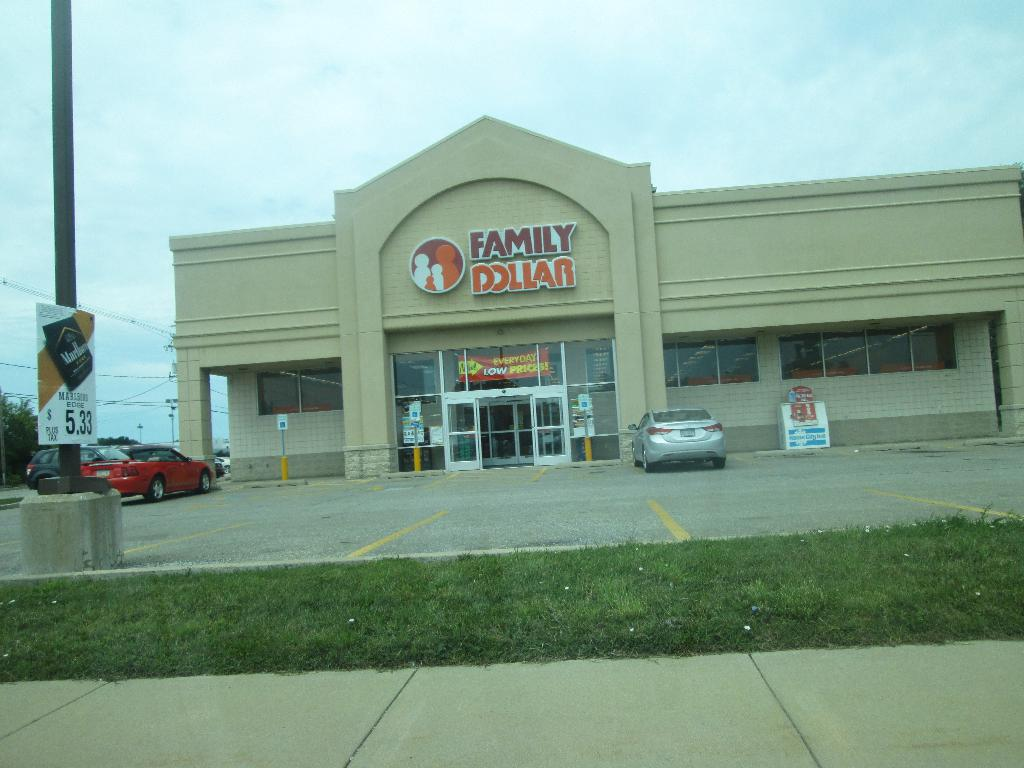Car: (74, 442, 216, 500), (629, 405, 728, 468), (21, 442, 129, 490)
